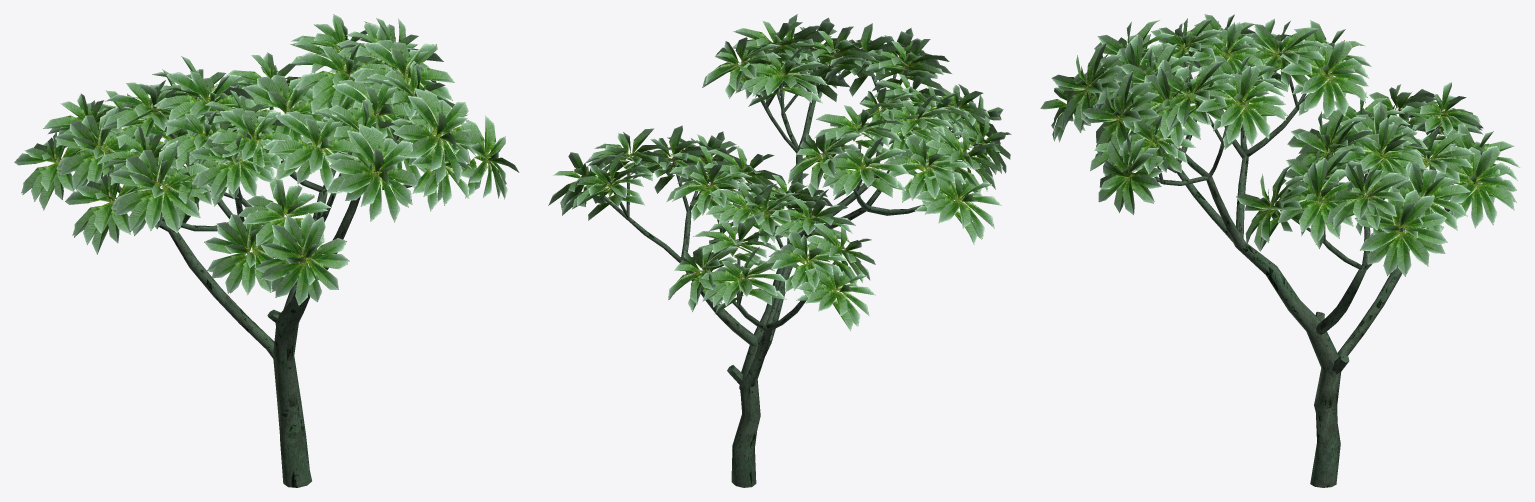
Rendered from tree.glb.
3 renders of one model, left to right at view 1: azimuth 30°, elevation 25°; view 2: azimuth 150°, elevation 25°; view 3: azimuth 270°, elevation 25°, orthographic. The views are drawn at different scales.
Size of the model in its own units: 5.96 by 6.5 by 6.49.
Materials: 3 (2 with a texture image).
